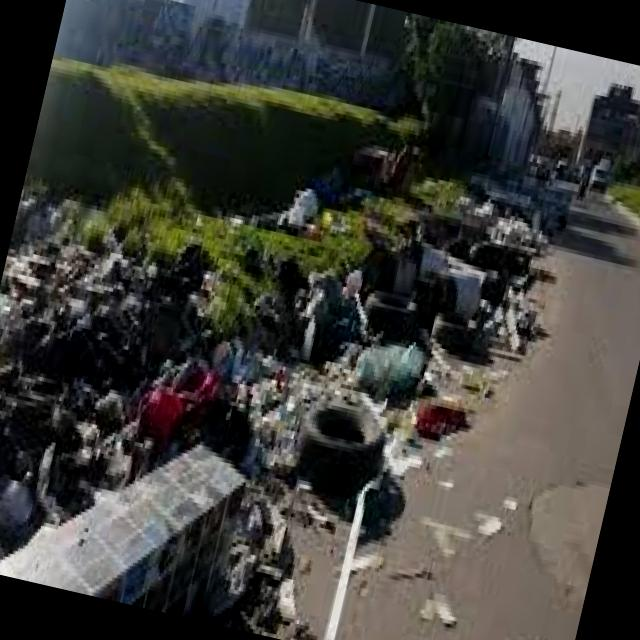garbage: (0, 88, 571, 640)
